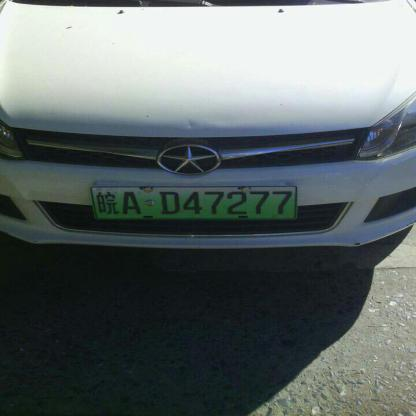lp: (91, 186, 294, 219)
